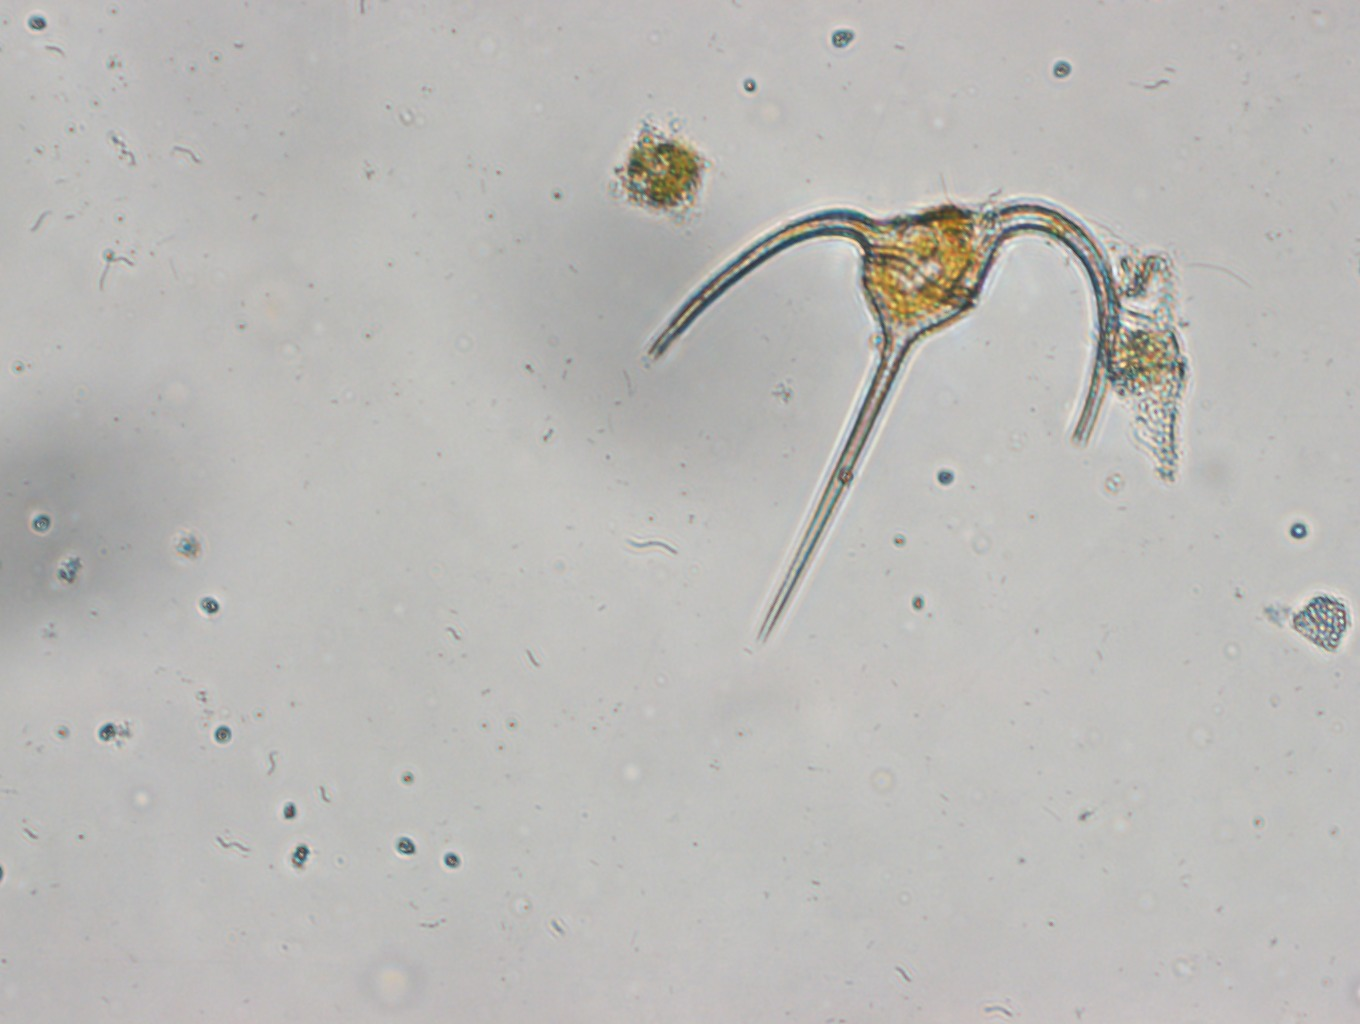ceratium trichoceros: (638, 187, 1123, 648)
